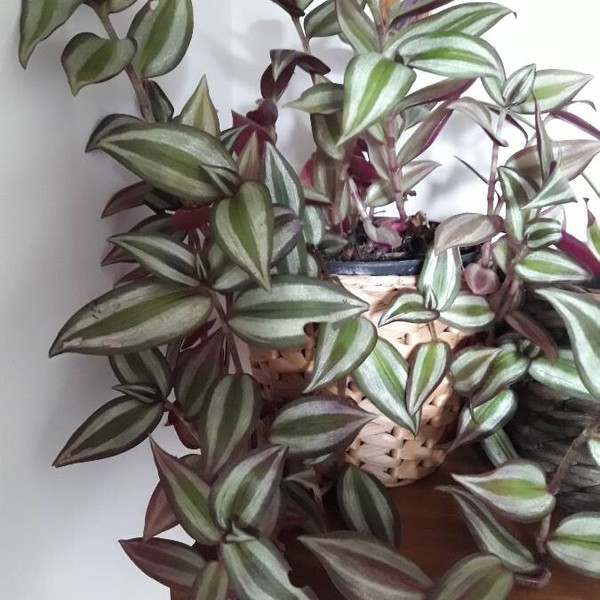obstacle: (35, 16, 506, 496)
